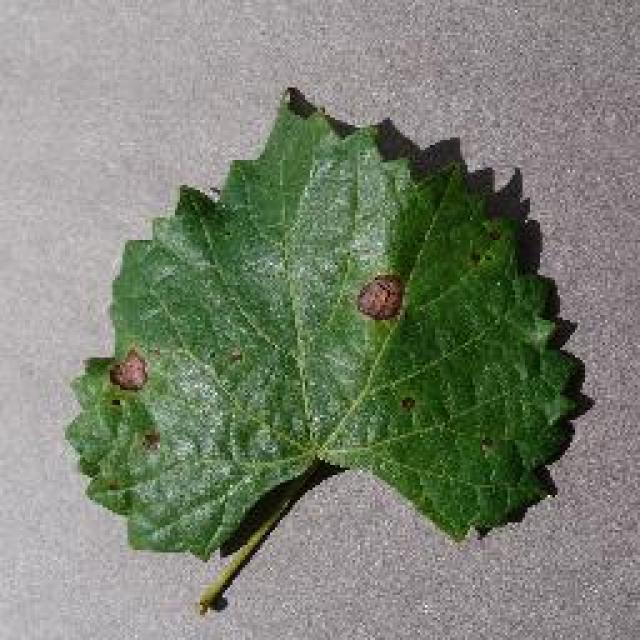Grape___Black_rot: (61, 84, 585, 619)
